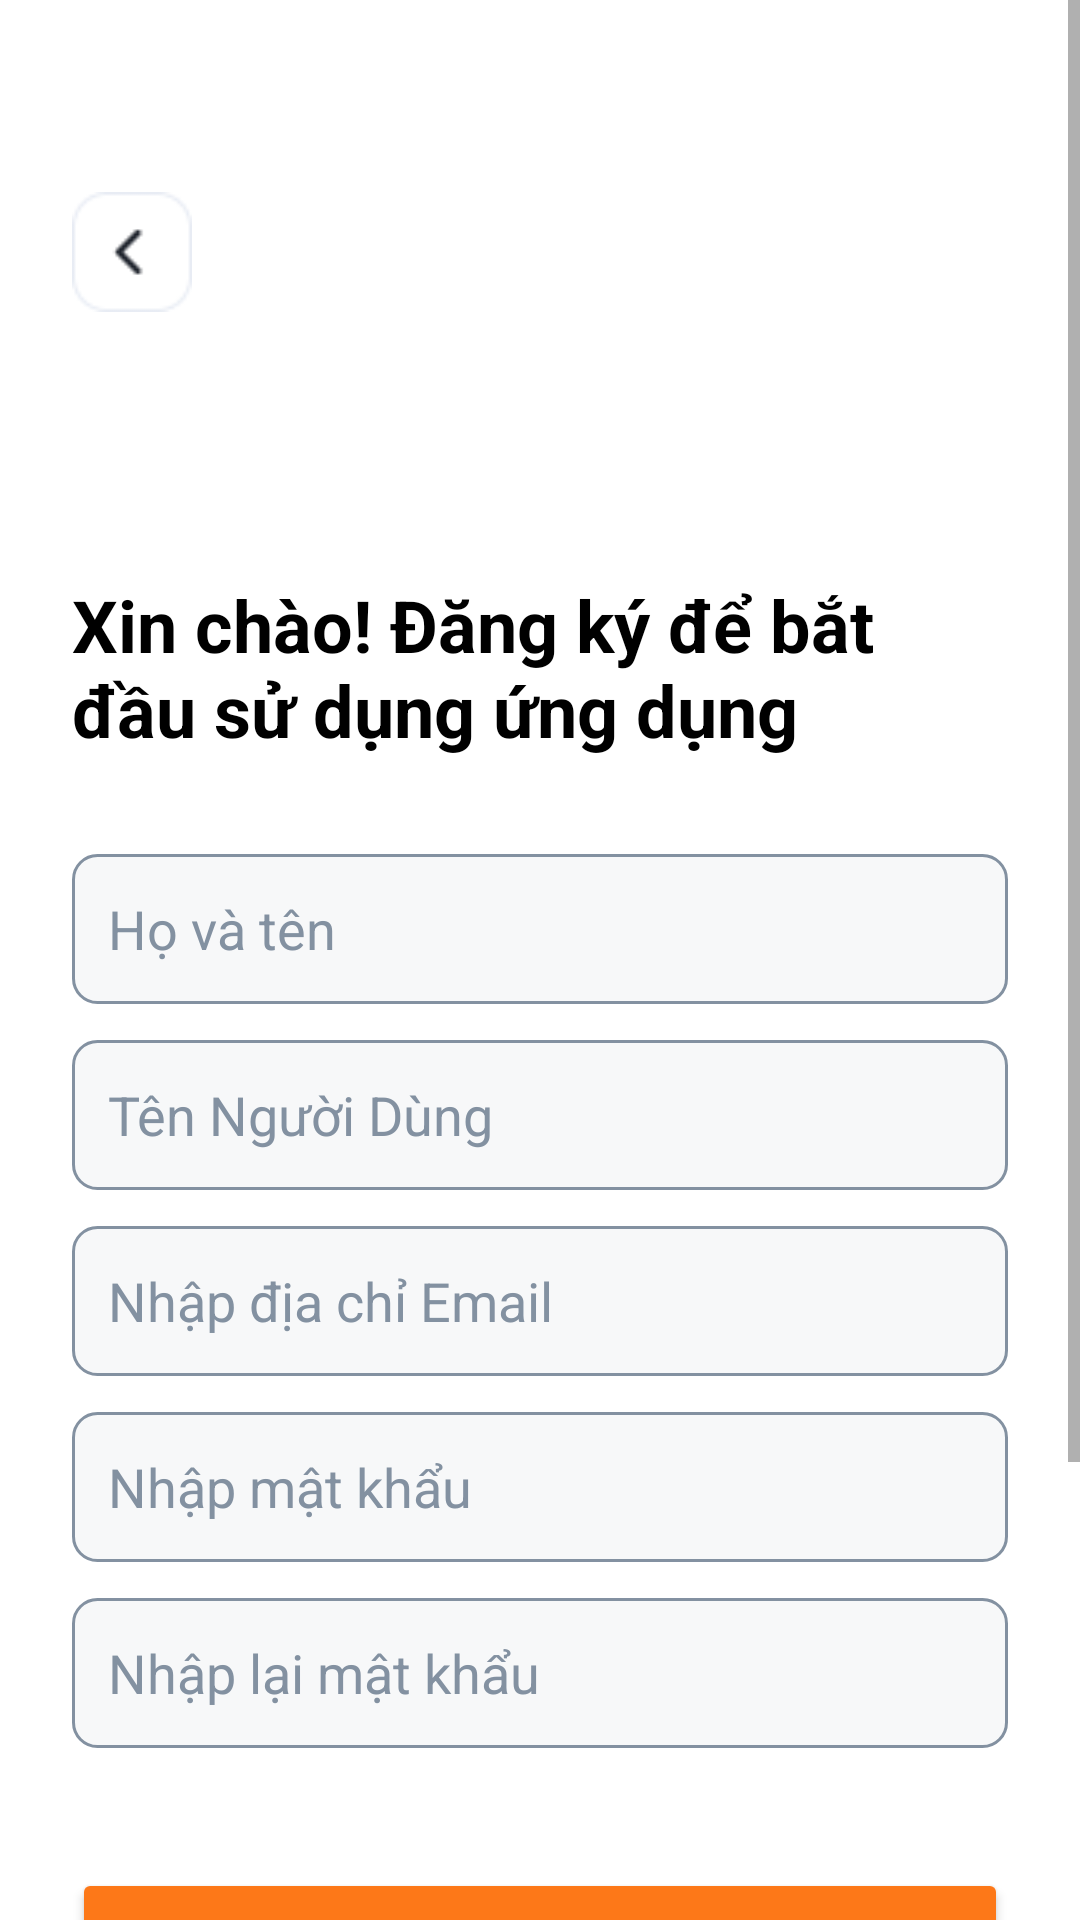

Screen size 1080x1920. Icon name, then its center in pixels as [x,y]:
Back: [128,252]
